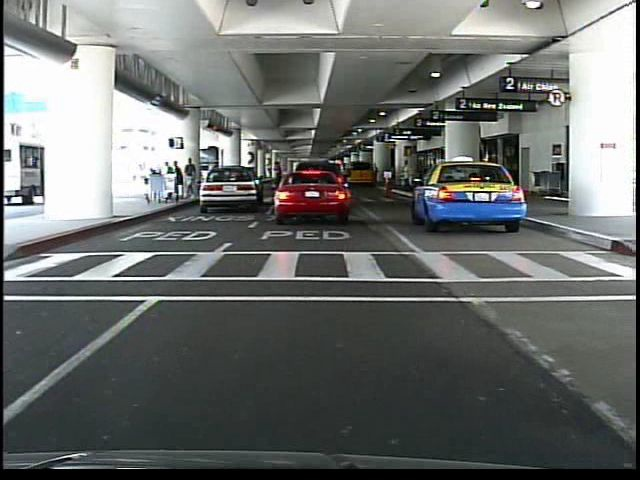person: (272, 158, 288, 203), (338, 157, 351, 201), (188, 157, 200, 200), (323, 167, 333, 202), (401, 160, 411, 191), (408, 158, 409, 192)
